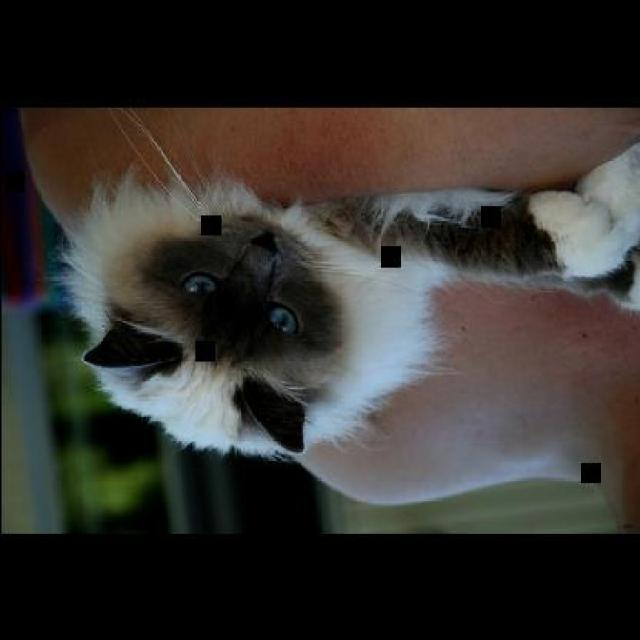unauthorized: (47, 109, 638, 531)
